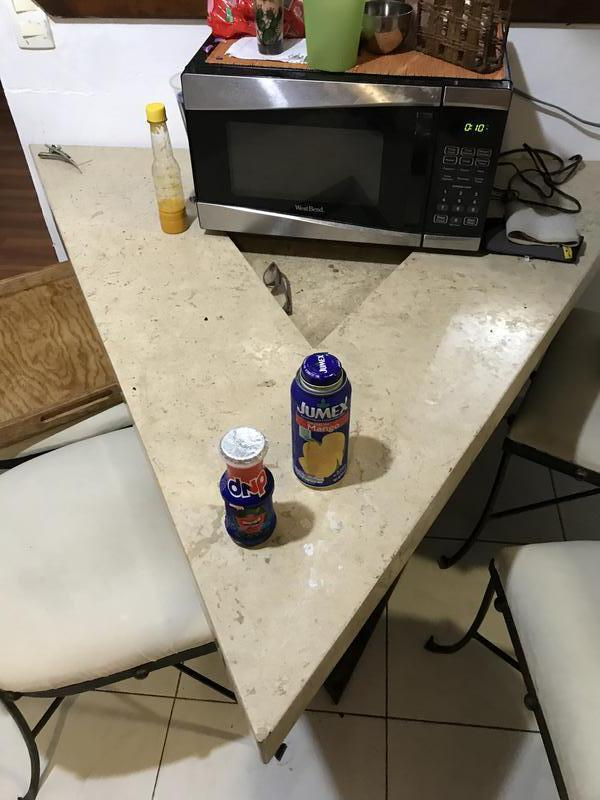danup: (216, 429, 280, 545)
jugo_jumex: (287, 354, 354, 487)
